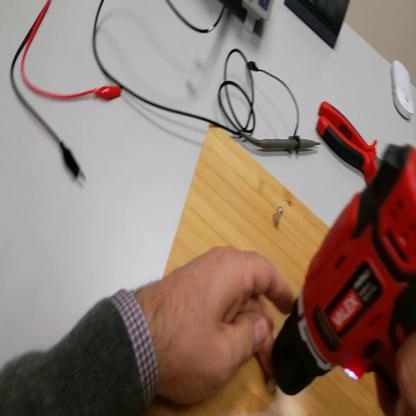electric screwdriver: (270, 145, 415, 412)
hand: (150, 245, 295, 403), (376, 329, 416, 415)
oscilloscope: (240, 1, 275, 32)
oscilloscope probe tip: (243, 130, 323, 154)
pliers: (317, 98, 383, 187)
working area: (158, 127, 382, 415)
